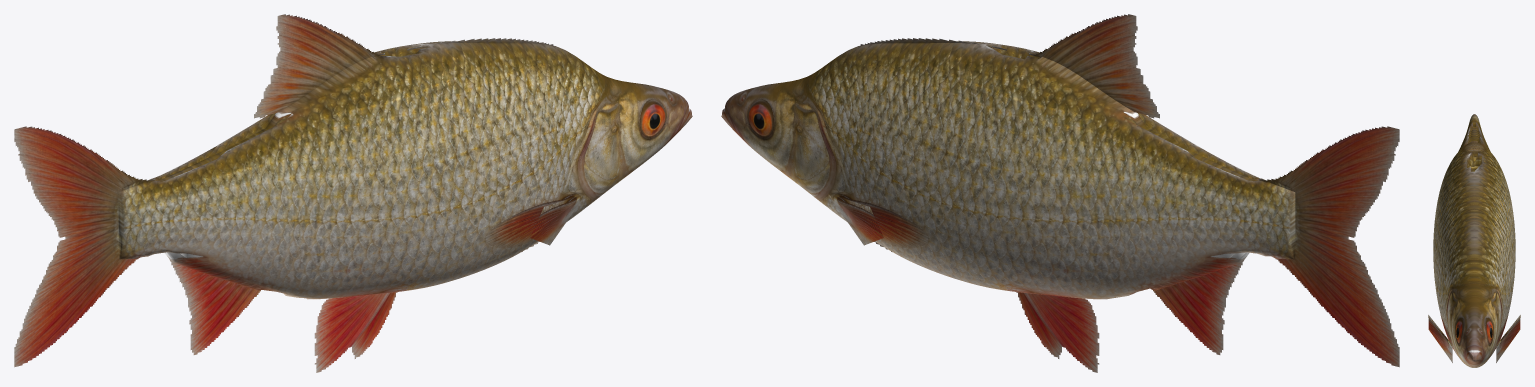
The model's file is rudd.glb.
The picture shows the model from 3 angles, left to right: view 1: azimuth 30°, elevation 25°; view 2: azimuth 150°, elevation 25°; view 3: azimuth 270°, elevation 25°; orthographic projection. The views are drawn at different scales.
Parts seen in each view (by area): view 1: rudd_realistic.004; view 2: rudd_realistic.004; view 3: rudd_realistic.004.
Boxes of the visible parts, x1,y1,x2,y2 form: rudd_realistic.004: [14, 14, 692, 372]; rudd_realistic.004: [721, 14, 1399, 372]; rudd_realistic.004: [1428, 114, 1520, 367].
Size of the model in its own units: 1 by 0.5173 by 0.1641.
Materials: 3 (3 with a texture image).
